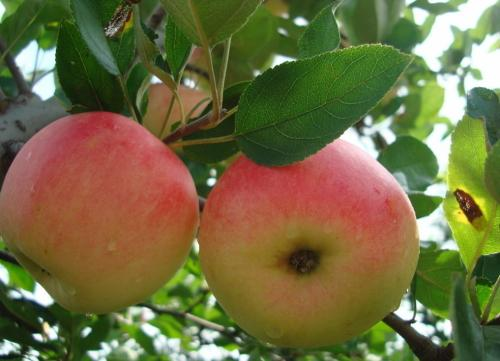apple: (1, 111, 200, 315)
obscured(0)_apple: (196, 134, 421, 348)
